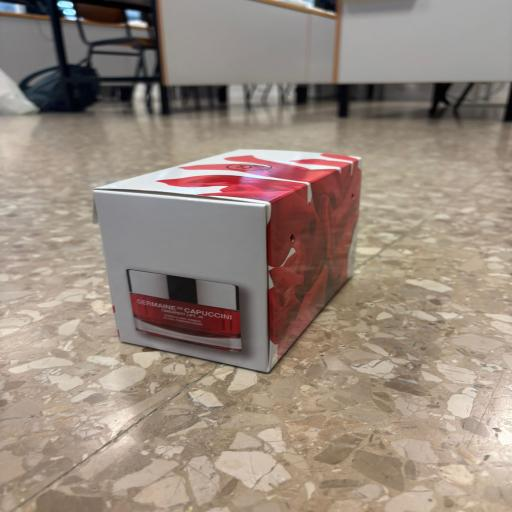caja_2: (94, 149, 361, 372)
